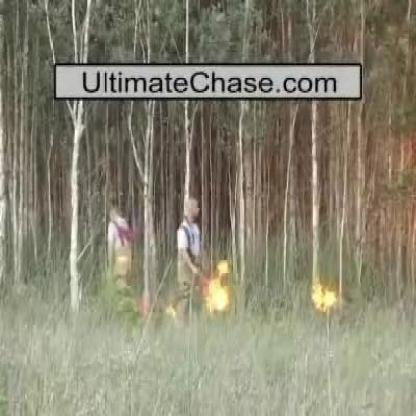foggia-v2-map80-epoch100 - v1 4323: (206, 259, 228, 316), (312, 282, 336, 313)
